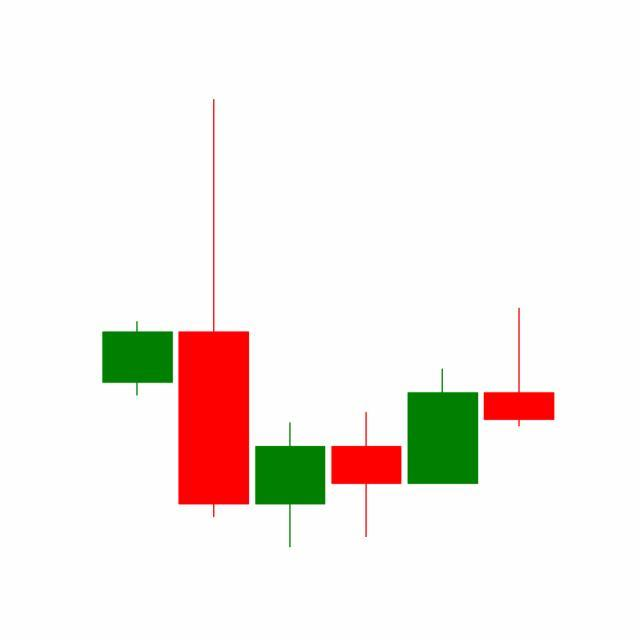Marubozu: (404, 367, 482, 486)
